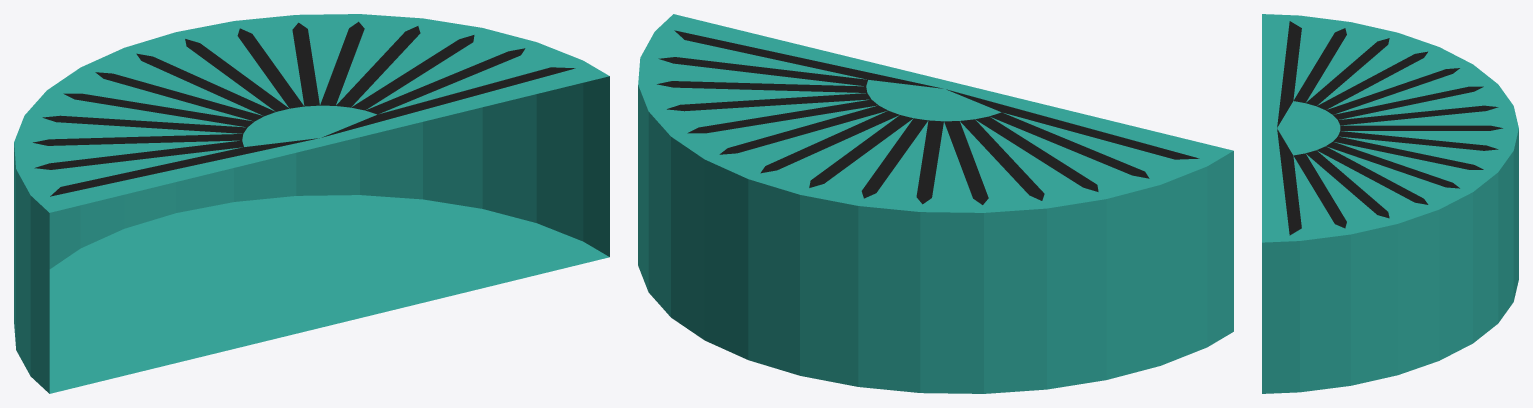
The model's file is floor_dial_converted.obj.
3 views of the same model, side by side, from view 1: azimuth 30°, elevation 25°; view 2: azimuth 150°, elevation 25°; view 3: azimuth 270°, elevation 25° (orthographic). The views are drawn at different scales.
Visible parts, largest first — view 1: Cylinder; view 2: Cylinder; view 3: Cylinder.
Boxes of the visible parts, x1=… form: Cylinder: x1=14, y1=14, x2=609, y2=393; Cylinder: x1=638, y1=14, x2=1233, y2=393; Cylinder: x1=1262, y1=14, x2=1518, y2=393.
Size of the model in its own units: 0.7458 by 0.2303 by 0.3542.
